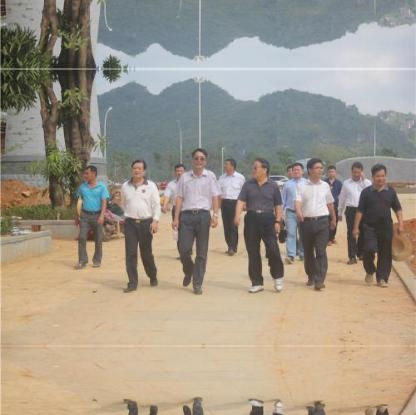No Safety Helmet: (369, 161, 391, 190), (250, 157, 271, 187), (128, 159, 150, 184), (190, 147, 208, 176), (306, 156, 324, 183), (348, 160, 364, 185), (81, 165, 100, 185), (220, 157, 238, 176), (325, 161, 338, 184), (171, 163, 186, 182), (291, 162, 303, 182)
